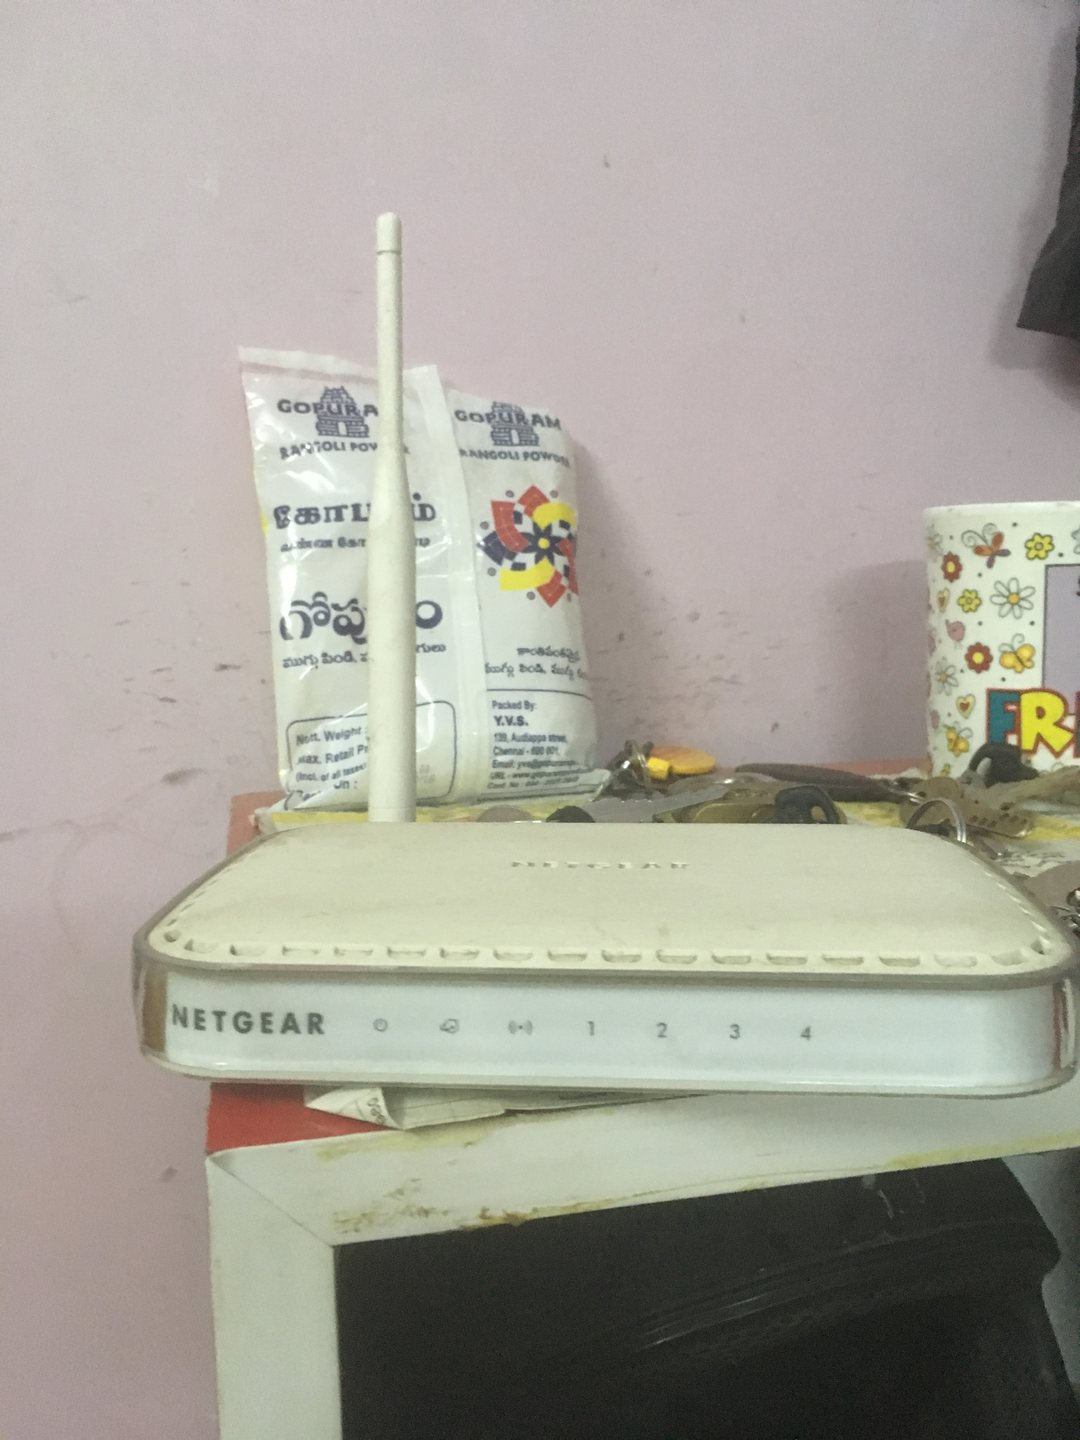NETGEAR: (157, 994, 334, 1047)
modem: (116, 931, 1080, 1106)
